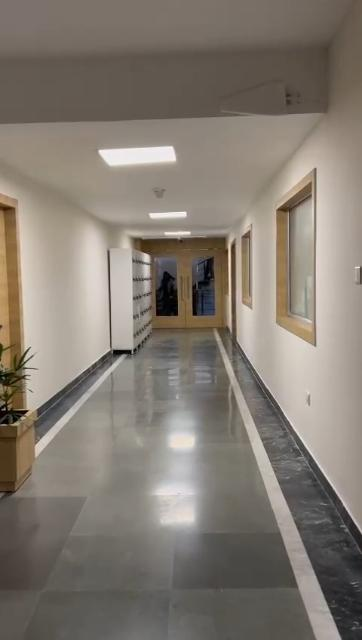door: (156, 233, 230, 343)
floor: (0, 335, 362, 640)
object: (0, 324, 40, 492)
wall: (314, 127, 362, 466), (28, 184, 104, 358), (249, 205, 277, 353)
